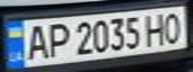0: (90, 16, 112, 53)
2: (72, 18, 93, 56)
3: (109, 15, 127, 52)
5: (124, 14, 145, 50)
A: (21, 21, 51, 61)
H: (142, 11, 172, 47)
O: (160, 9, 190, 45)
P: (42, 20, 72, 58)
